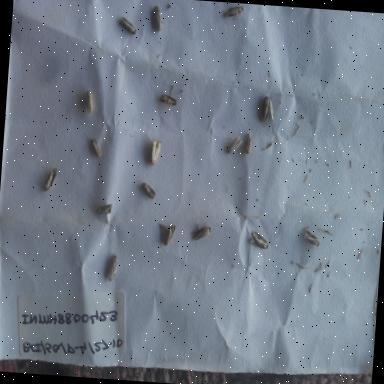pbw: (143, 136, 166, 168), (156, 84, 182, 110), (298, 226, 324, 252), (116, 12, 140, 40), (90, 198, 116, 223), (103, 251, 122, 284), (247, 227, 271, 253), (156, 220, 178, 248), (222, 129, 244, 157), (42, 164, 60, 196), (239, 129, 257, 160), (148, 2, 165, 34), (88, 130, 106, 160), (260, 92, 276, 124), (81, 85, 97, 116), (190, 222, 212, 244), (138, 180, 157, 200), (222, 3, 244, 20)
